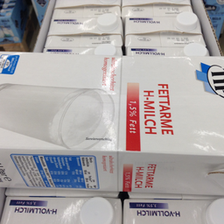milk: (1, 52, 224, 199)
